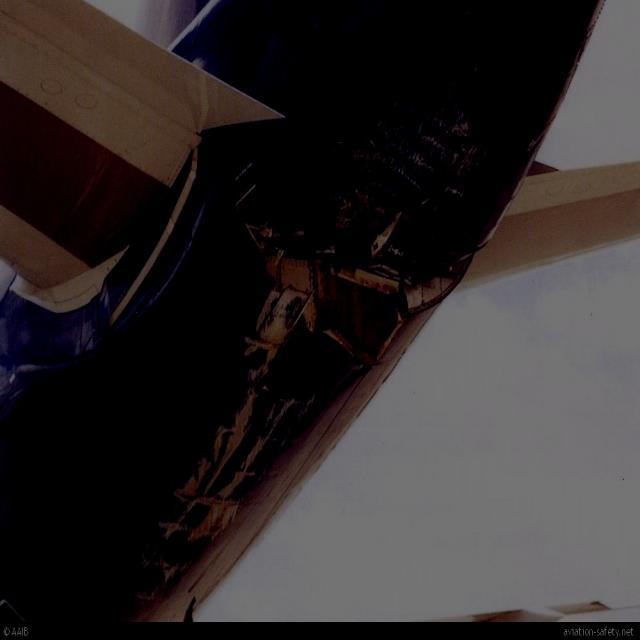crack: (239, 225, 456, 311)
